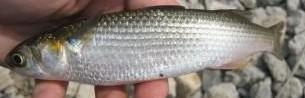fish: (5, 5, 285, 85)
